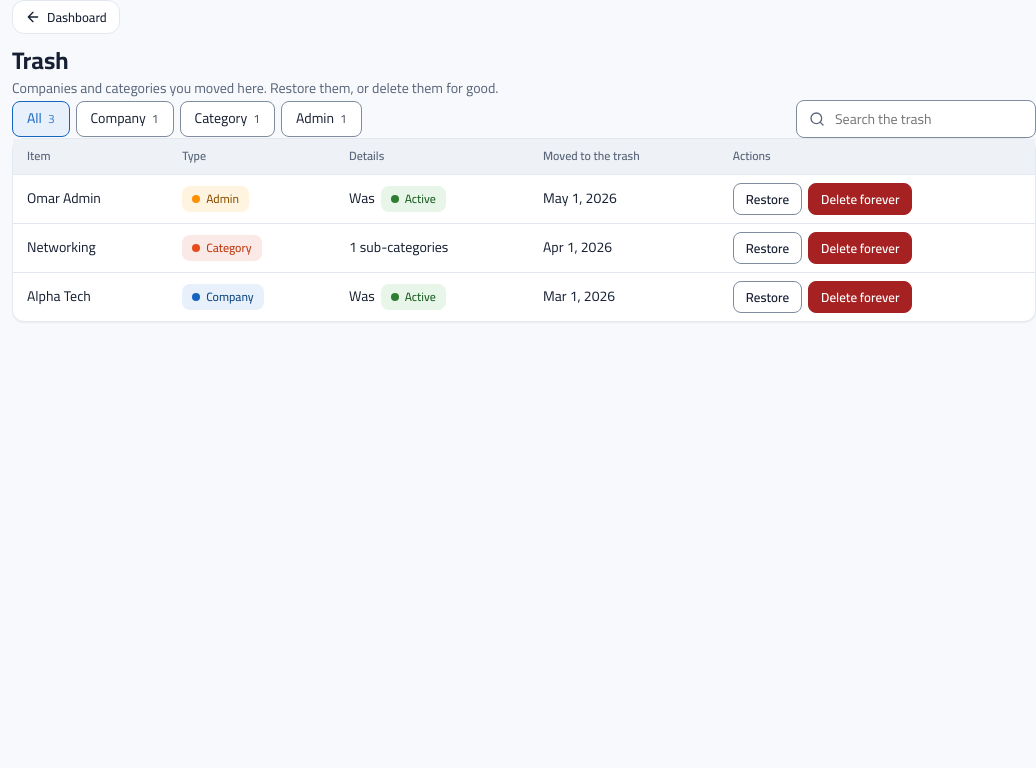
Test case: admins in the trash › are restored with what they were
This screenshot has width=1036, height=768.
Click the button "Restore" in the row of "Omar Admin" at (768, 199), box left=733, top=183, right=802, bottom=215
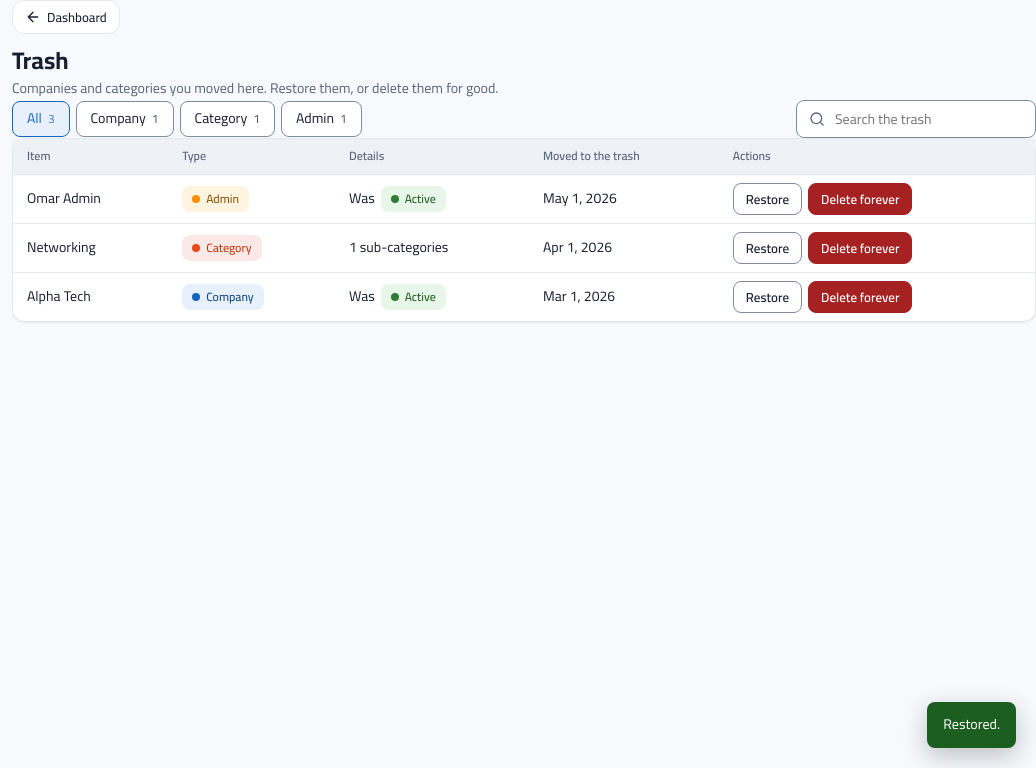
Expected: the text "Restored." is shown, left=927, top=702, right=1016, bottom=748
